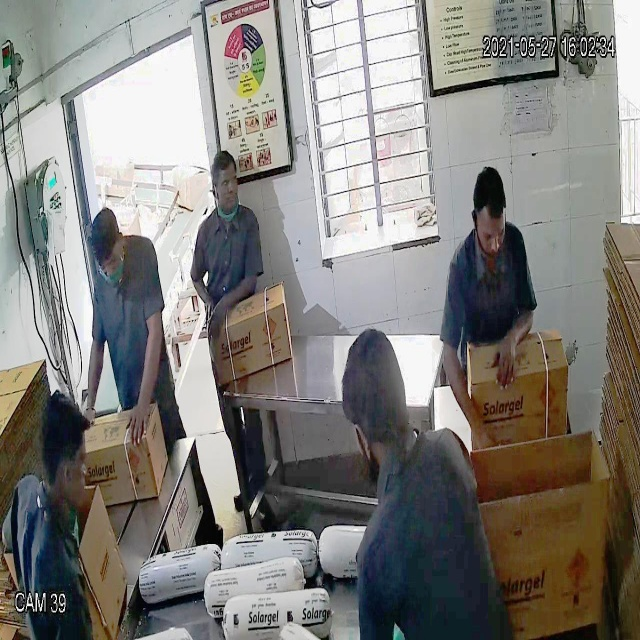Sin_gafas: (468, 211, 507, 248), (208, 164, 240, 197)
